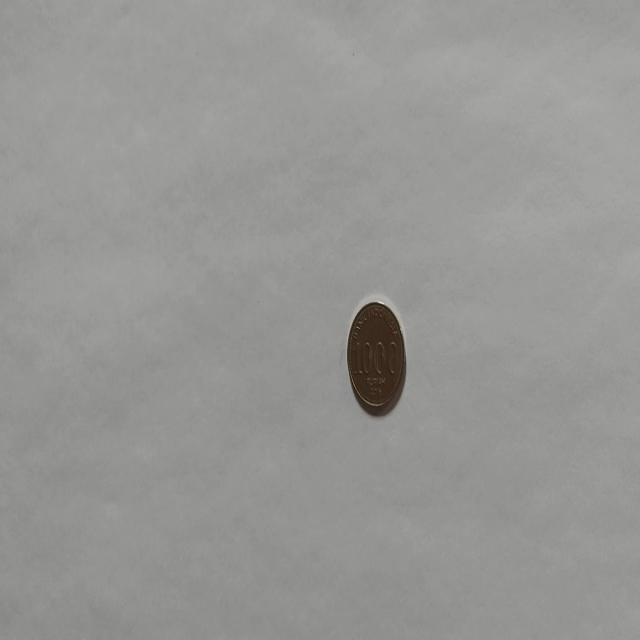seribu rupiah koin: (346, 295, 406, 416)
